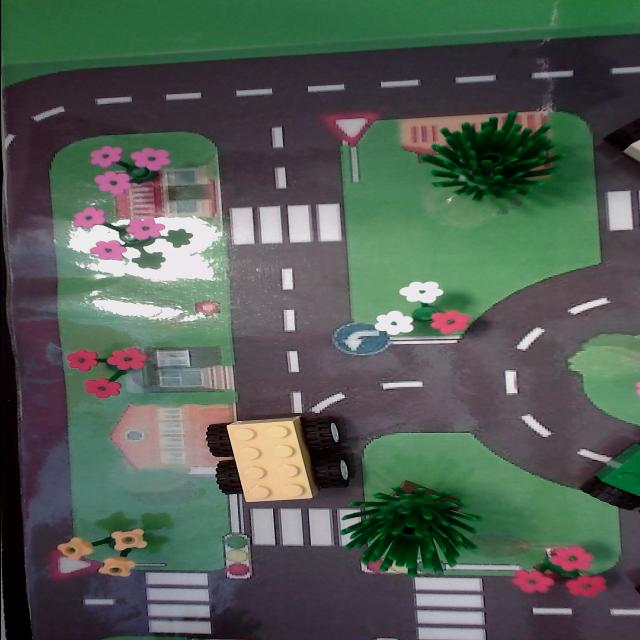Car: (197, 406, 361, 506), (579, 430, 640, 521), (594, 103, 640, 173)
Flower: (364, 277, 480, 342), (56, 333, 156, 404), (65, 204, 170, 263), (506, 538, 606, 598), (52, 524, 154, 582), (69, 146, 181, 194)
Tree: (407, 113, 570, 210), (333, 475, 479, 579)
